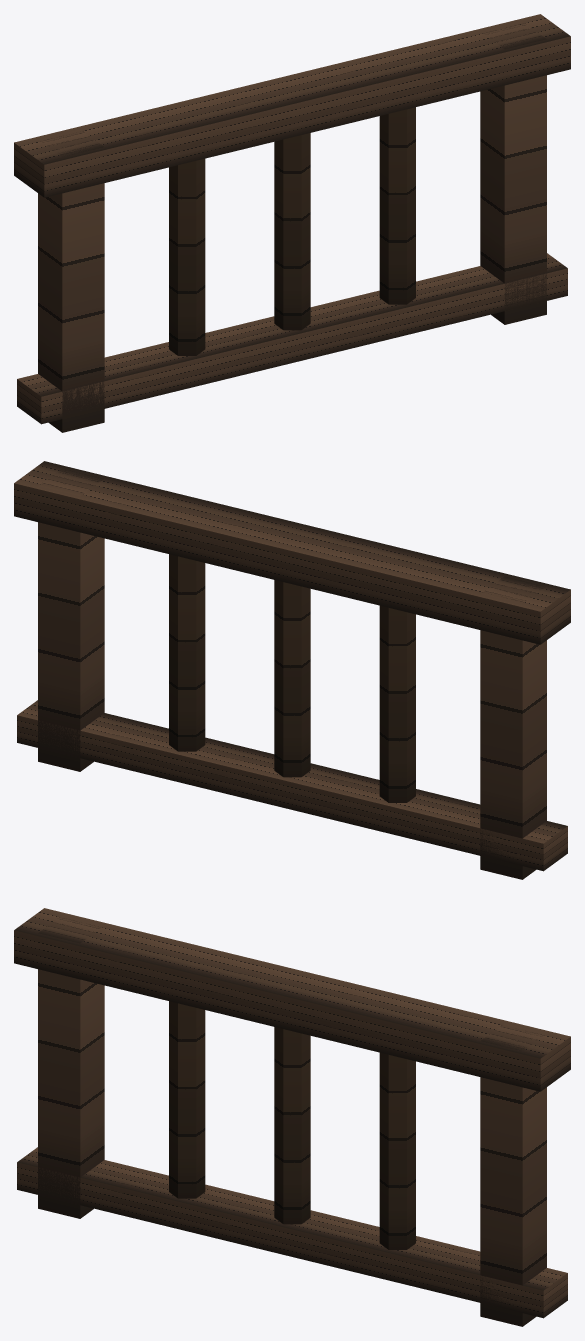
The model's file is railing.gltf.
3 renders of one model, top to bottom at view 1: azimuth 30°, elevation 25°; view 2: azimuth 150°, elevation 25°; view 3: azimuth 330°, elevation 25°, orthographic.
Parts seen in each view (by area): view 1: railing; view 2: railing; view 3: railing.
Boxes of the visible parts, bbox=[...] form: railing: bbox=[14, 14, 570, 432]; railing: bbox=[14, 461, 570, 879]; railing: bbox=[14, 908, 570, 1326].
Size of the model in its own units: 1 by 0.5 by 0.1.
Materials: 1 (1 with a texture image).
